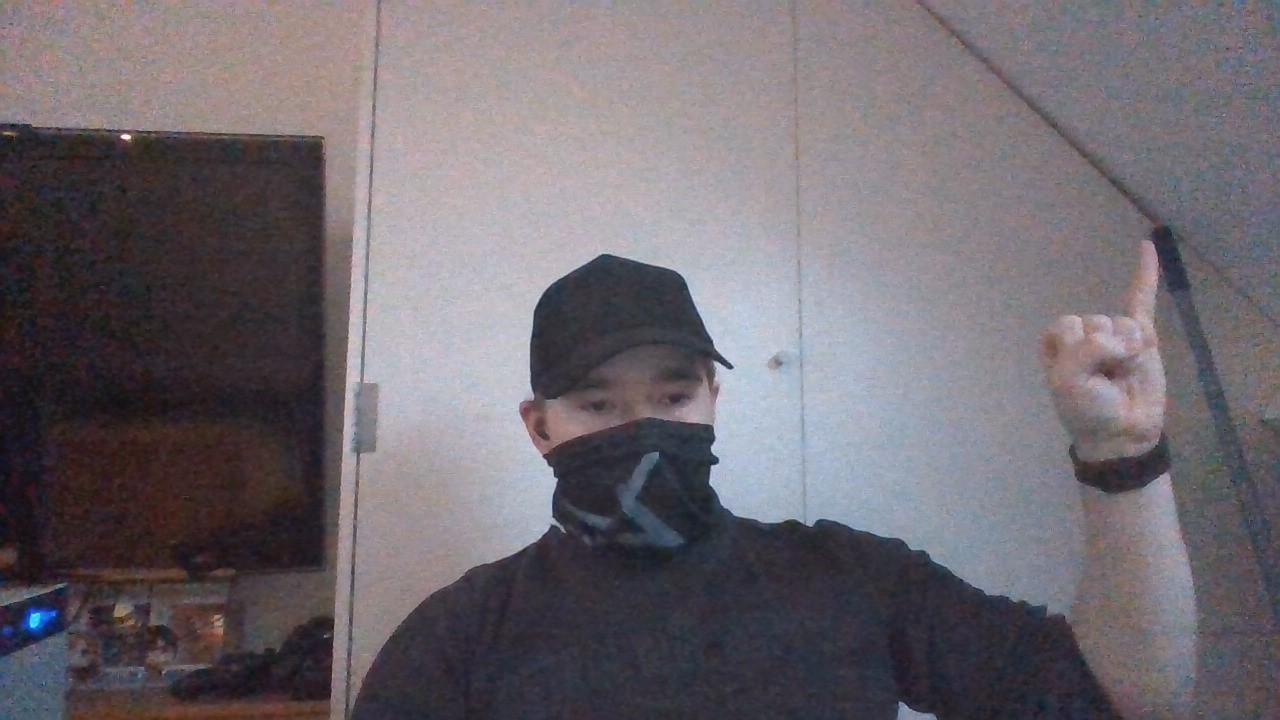I" Sign language: (1021, 231, 1187, 447)
